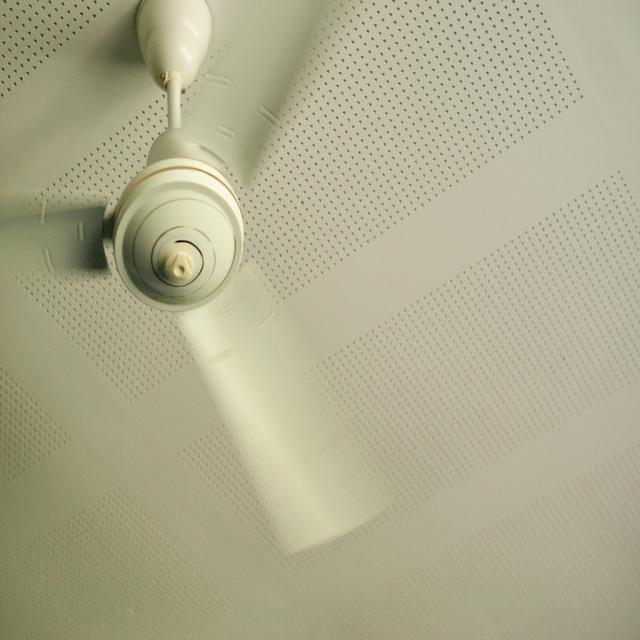fan_on: (0, 1, 388, 555)
